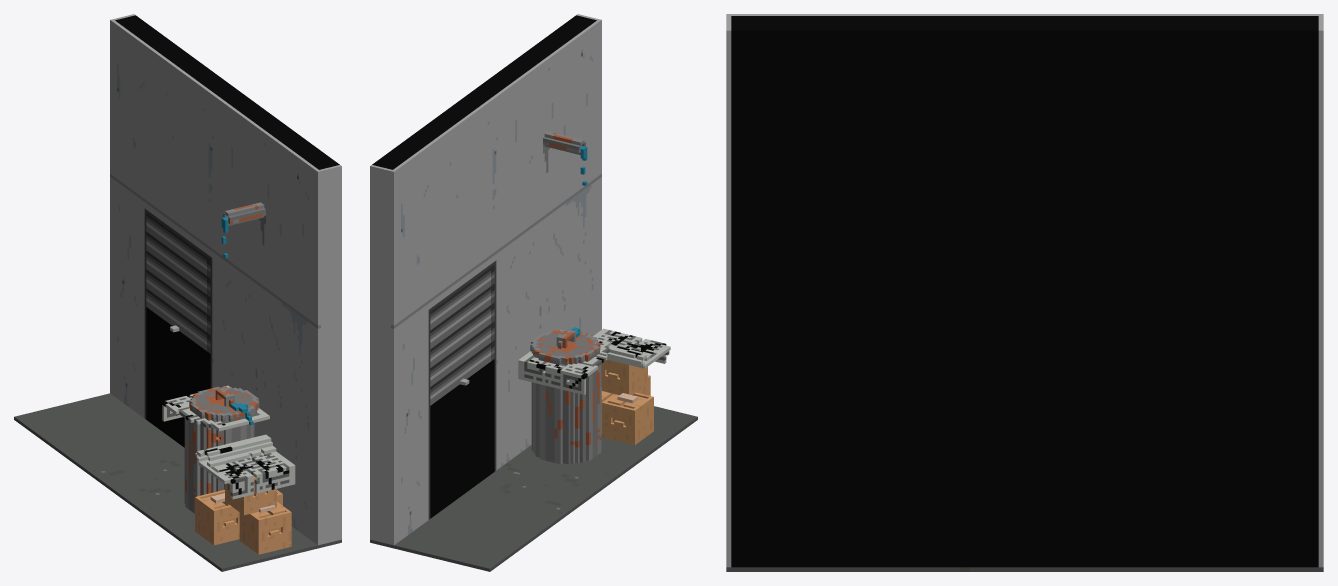
File: Parede_Portao_03.obj
3 renders of one model, left to right at view 1: azimuth 30°, elevation 25°; view 2: azimuth 150°, elevation 25°; view 3: azimuth 270°, elevation 25°, orthographic. The views are drawn at different scales.
Size of the model in its own units: 40 by 120 by 120.
Materials: 1 (1 with a texture image).
